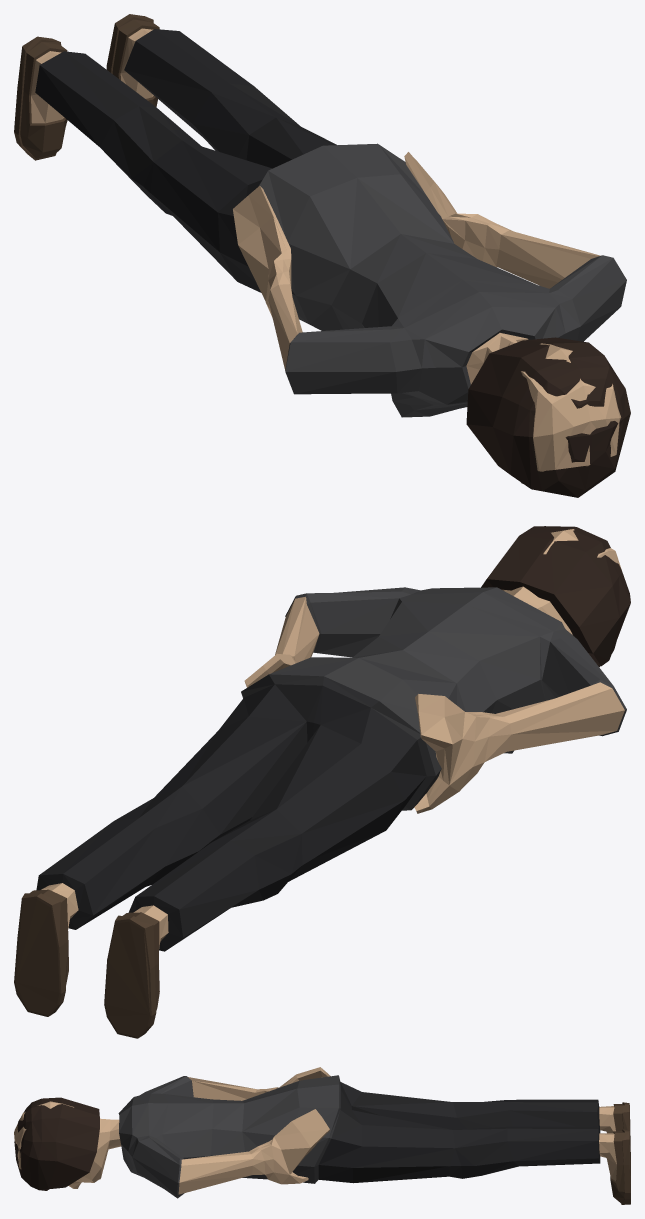
Rendered from woman-standing-hands-on-hips.obj.
The picture shows the model from 3 angles, top to bottom: view 1: azimuth 30°, elevation 25°; view 2: azimuth 150°, elevation 25°; view 3: azimuth 270°, elevation 25°; orthographic projection. The views are drawn at different scales.
Parts seen in each view (by area): view 1: woman-standing-hands-on-hips; view 2: woman-standing-hands-on-hips; view 3: woman-standing-hands-on-hips.
Boxes of the visible parts, bbox=[...] form: woman-standing-hands-on-hips: bbox=[14, 14, 630, 497]; woman-standing-hands-on-hips: bbox=[14, 526, 630, 1038]; woman-standing-hands-on-hips: bbox=[14, 1067, 630, 1204].
Bounding box in the file's own units: 25.39 × 12.28 × 65.6.
